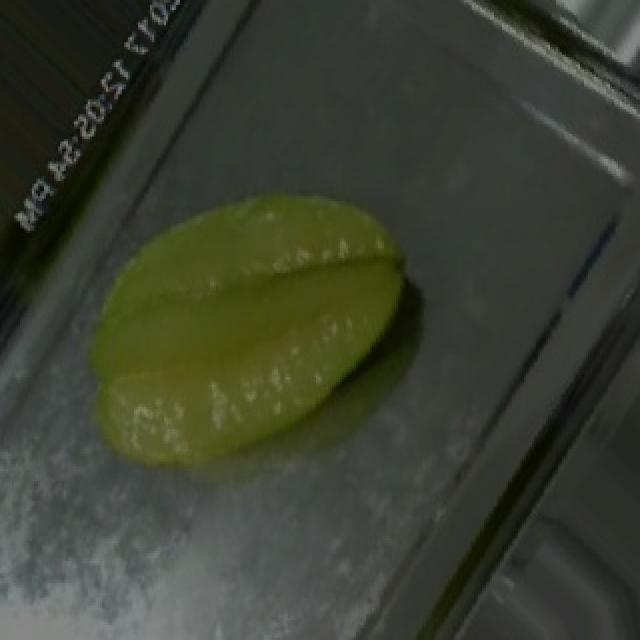fruit: (40, 79, 462, 516)
